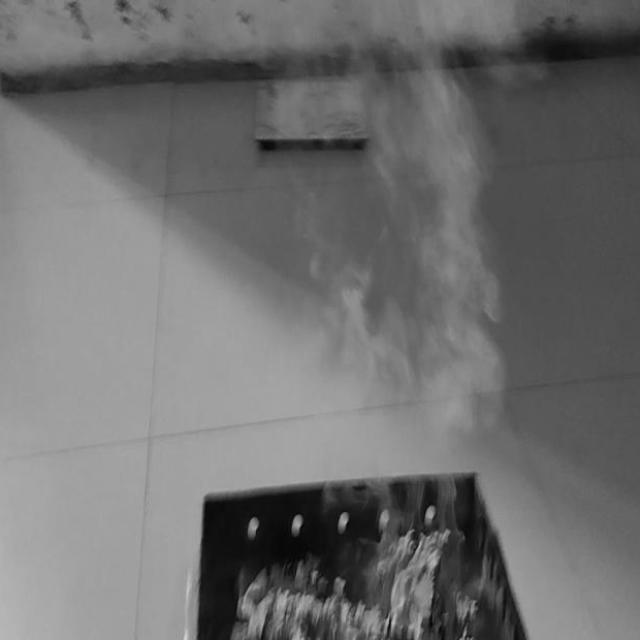fire: (396, 0, 508, 411)
